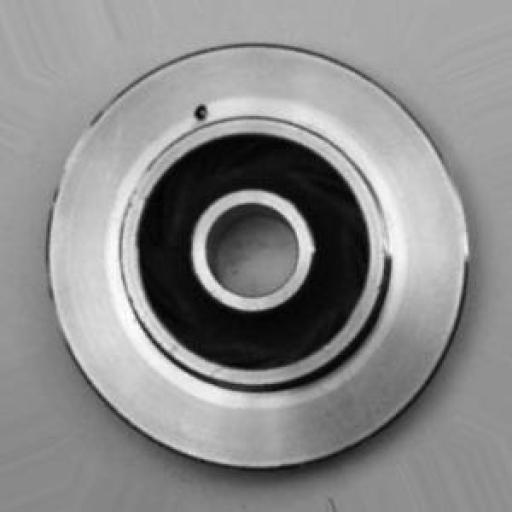defect: (176, 84, 230, 142)
